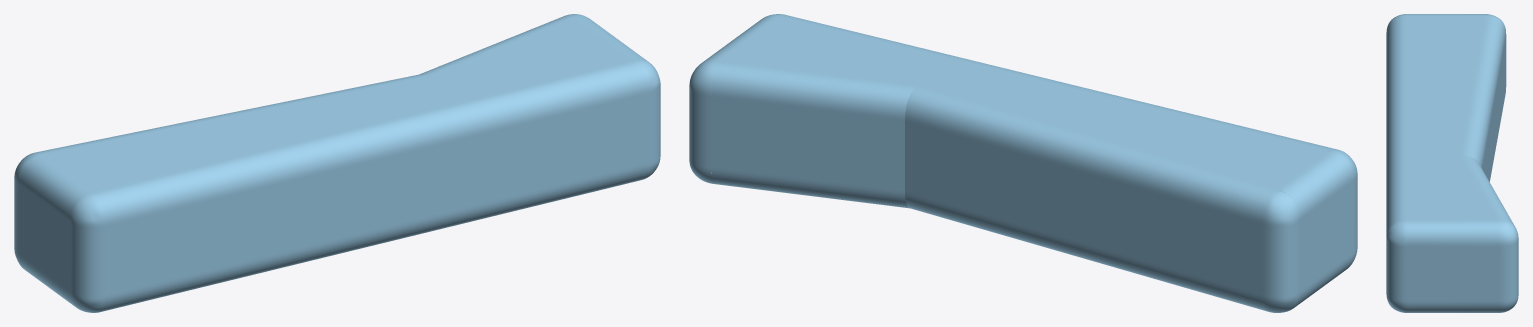
The model's file is Step.dae.
The picture shows the model from 3 angles, left to right: view 1: azimuth 30°, elevation 25°; view 2: azimuth 150°, elevation 25°; view 3: azimuth 270°, elevation 25°; orthographic projection. The views are drawn at different scales.
Parts seen in each view (by area): view 1: ID2; view 2: ID2; view 3: ID2.
Part boxes in pixels (left/top/right/bottom): ID2: left=14, top=14, right=660, bottom=312; ID2: left=689, top=14, right=1357, bottom=312; ID2: left=1386, top=14, right=1518, bottom=312.
Size of the model in its own units: 0.0639 by 0.0162 by 0.0122.
